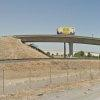Bridge: (16, 30, 100, 52)
